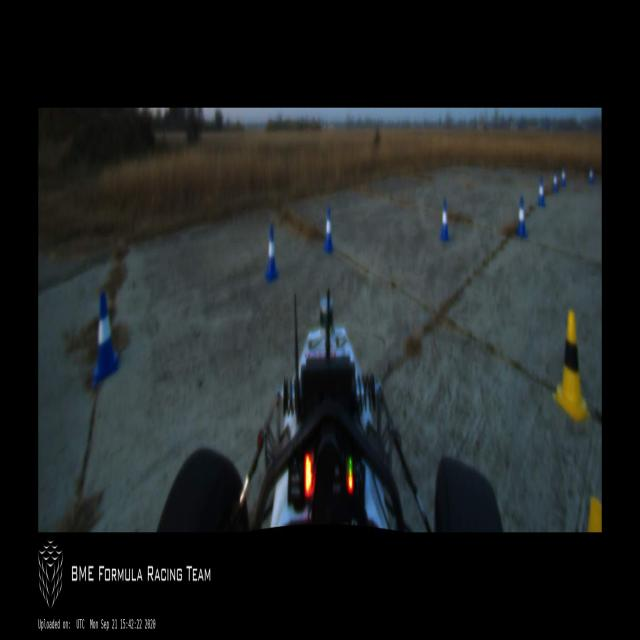blue_cone: (92, 292, 119, 385), (266, 226, 278, 282), (323, 208, 333, 254), (517, 197, 527, 237), (440, 200, 449, 240), (537, 177, 546, 208), (552, 169, 558, 194), (588, 164, 595, 184), (561, 165, 566, 186)
yellow_cone: (554, 309, 592, 422)
